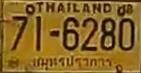0: (118, 17, 134, 50)
1: (35, 16, 40, 50)
2: (81, 17, 97, 50)
6: (62, 16, 78, 50)
7: (11, 15, 27, 50)
8: (100, 17, 115, 50)
SPK: (32, 55, 114, 69)
